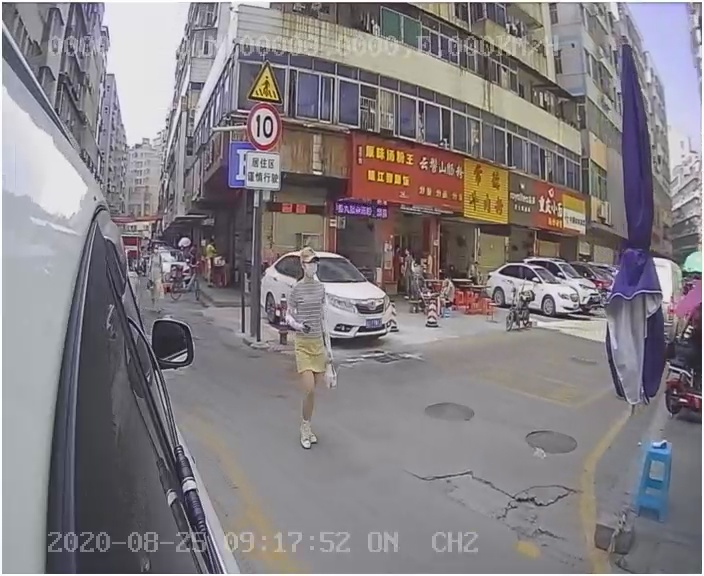person: (275, 248, 355, 454)
